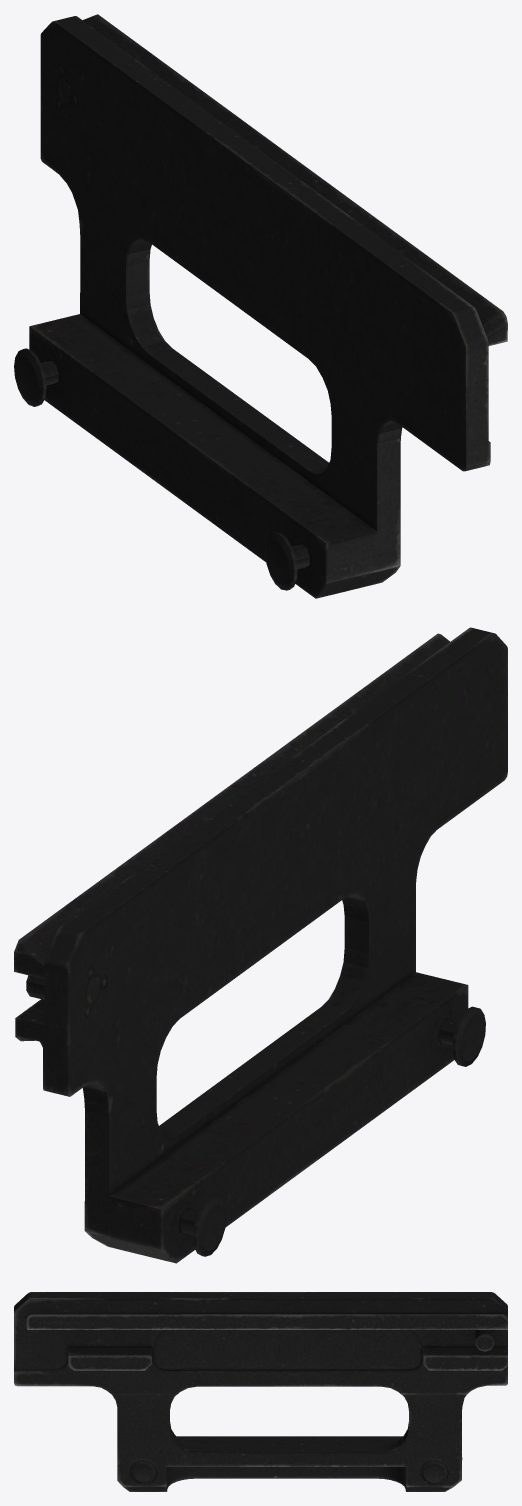
3 views of the same model, one above another, from view 1: azimuth 30°, elevation 25°; view 2: azimuth 150°, elevation 25°; view 3: azimuth 270°, elevation 25° (orthographic). The views are drawn at different scales.
Visible parts, largest first — view 1: TW_587e08ee245977446b4410cf_PZ_Import; view 2: TW_587e08ee245977446b4410cf_PZ_Import; view 3: TW_587e08ee245977446b4410cf_PZ_Import.
Boxes of the visible parts, box(x1,y1,x2,y2) form: TW_587e08ee245977446b4410cf_PZ_Import: box(14, 14, 507, 598); TW_587e08ee245977446b4410cf_PZ_Import: box(14, 627, 507, 1263); TW_587e08ee245977446b4410cf_PZ_Import: box(14, 1292, 507, 1491).
Bounding box in the file's own units: 0.011 × 0.0618 × 0.0269.
Materials: 1 (1 with a texture image).
